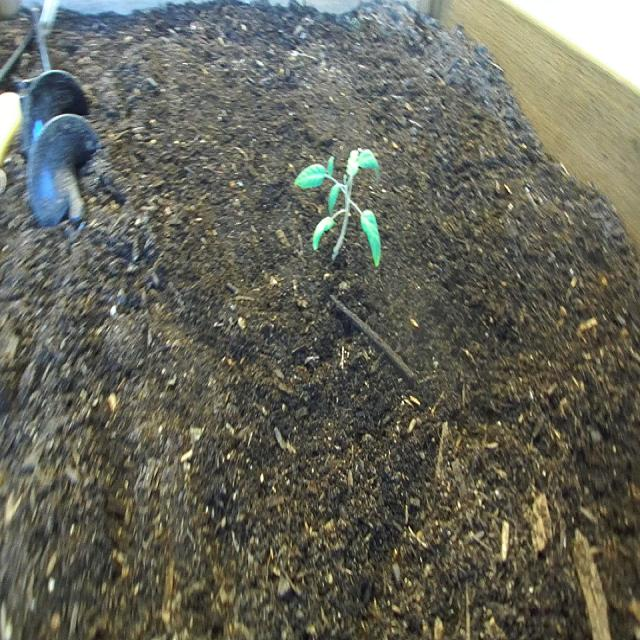Healthy: (286, 113, 393, 288)
